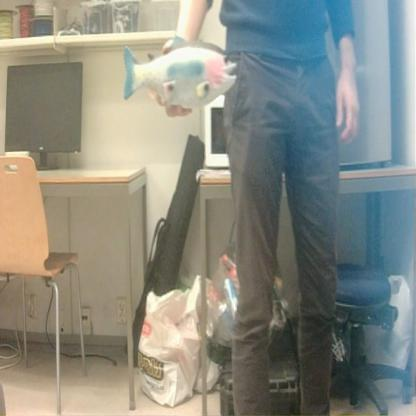rubberfish: (118, 39, 242, 119)
